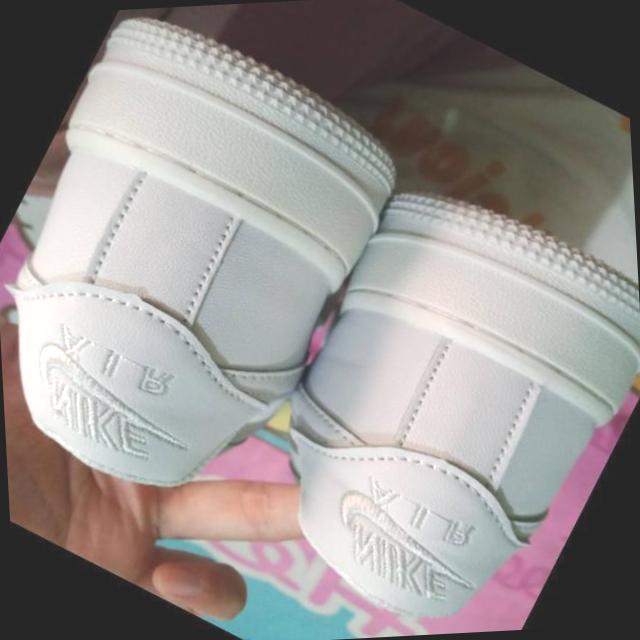nike_fake_airforce: (0, 0, 445, 546), (192, 145, 640, 640)
